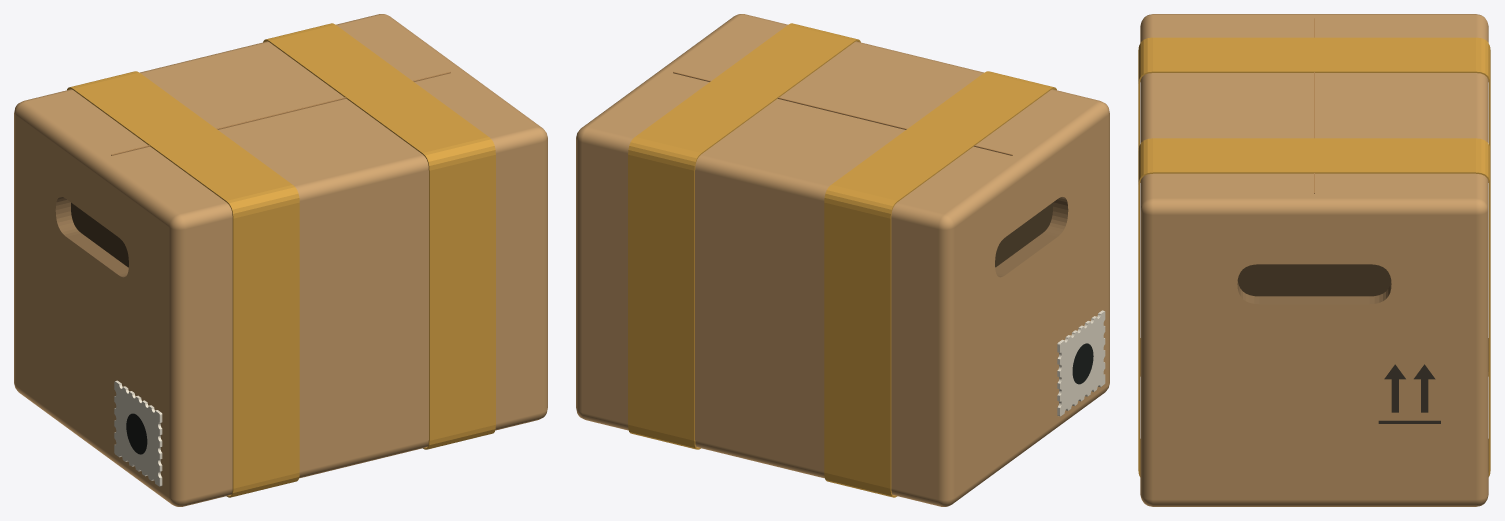
The model's file is play-parcel-large-yellow.glb.
3 renders of one model, left to right at view 1: azimuth 30°, elevation 25°; view 2: azimuth 150°, elevation 25°; view 3: azimuth 270°, elevation 25°, orthographic. The views are drawn at different scales.
Visible parts, largest first — view 1: Parcel_Carton, Parcel_Tape_Parallel_1, Parcel_Tape_Parallel_2, Parcel_Paper_Label, Parcel_Carry_Slot_Walls_Negative_X, Parcel_Carry_Slot_Interior_Negative_X, Parcel_Label_Circle; view 2: Parcel_Carton, Parcel_Tape_Parallel_1, Parcel_Tape_Parallel_2, Parcel_Paper_Label, Parcel_Carry_Slot_Walls_Negative_X, Parcel_Carry_Slot_Interior_Negative_X, Parcel_Label_Circle; view 3: Parcel_Carton, Parcel_Tape_Parallel_2, Parcel_Tape_Parallel_1, Parcel_Carry_Slot_Interior_Positive_X, Parcel_Carry_Slot_Walls_Positive_X, Parcel_Up_Arrows_Positive_X.
Boxes of the visible parts, x1,y1,x2,y2 form: Parcel_Carton: [14, 14, 547, 506]; Parcel_Tape_Parallel_1: [67, 71, 299, 497]; Parcel_Tape_Parallel_2: [263, 23, 495, 449]; Parcel_Paper_Label: [114, 380, 162, 486]; Parcel_Carry_Slot_Walls_Negative_X: [55, 197, 128, 277]; Parcel_Carry_Slot_Interior_Negative_X: [71, 202, 128, 267]; Parcel_Label_Circle: [126, 413, 147, 454]; Parcel_Carton: [576, 14, 1109, 506]; Parcel_Tape_Parallel_1: [824, 71, 1056, 497]; Parcel_Tape_Parallel_2: [628, 23, 860, 449]; Parcel_Paper_Label: [1057, 310, 1105, 416]; Parcel_Carry_Slot_Walls_Negative_X: [995, 197, 1068, 277]; Parcel_Carry_Slot_Interior_Negative_X: [995, 202, 1052, 267]; Parcel_Label_Circle: [1072, 343, 1093, 384]; Parcel_Carton: [1140, 14, 1488, 506]; Parcel_Tape_Parallel_2: [1138, 138, 1490, 476]; Parcel_Tape_Parallel_1: [1138, 37, 1490, 376]; Parcel_Carry_Slot_Interior_Positive_X: [1237, 264, 1391, 296]; Parcel_Carry_Slot_Walls_Positive_X: [1237, 281, 1391, 304]; Parcel_Up_Arrows_Positive_X: [1378, 364, 1440, 423].
Size of the model in its own units: 0.2526 by 0.187 by 0.192.
